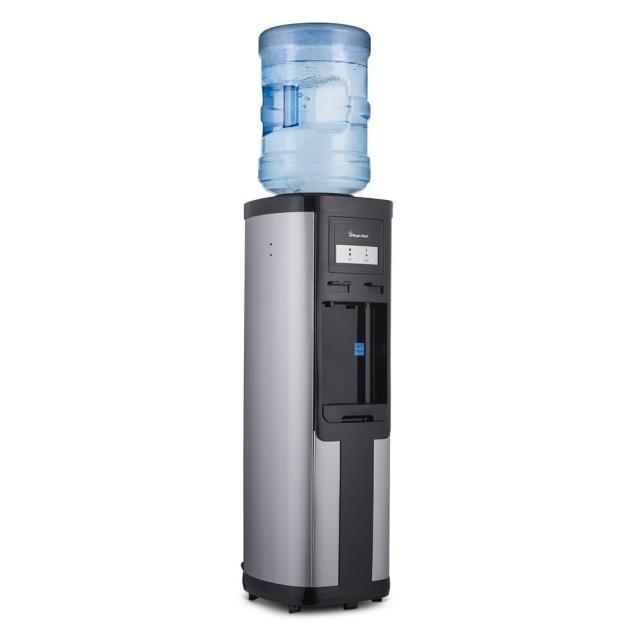Dispenser: (242, 22, 393, 613)
